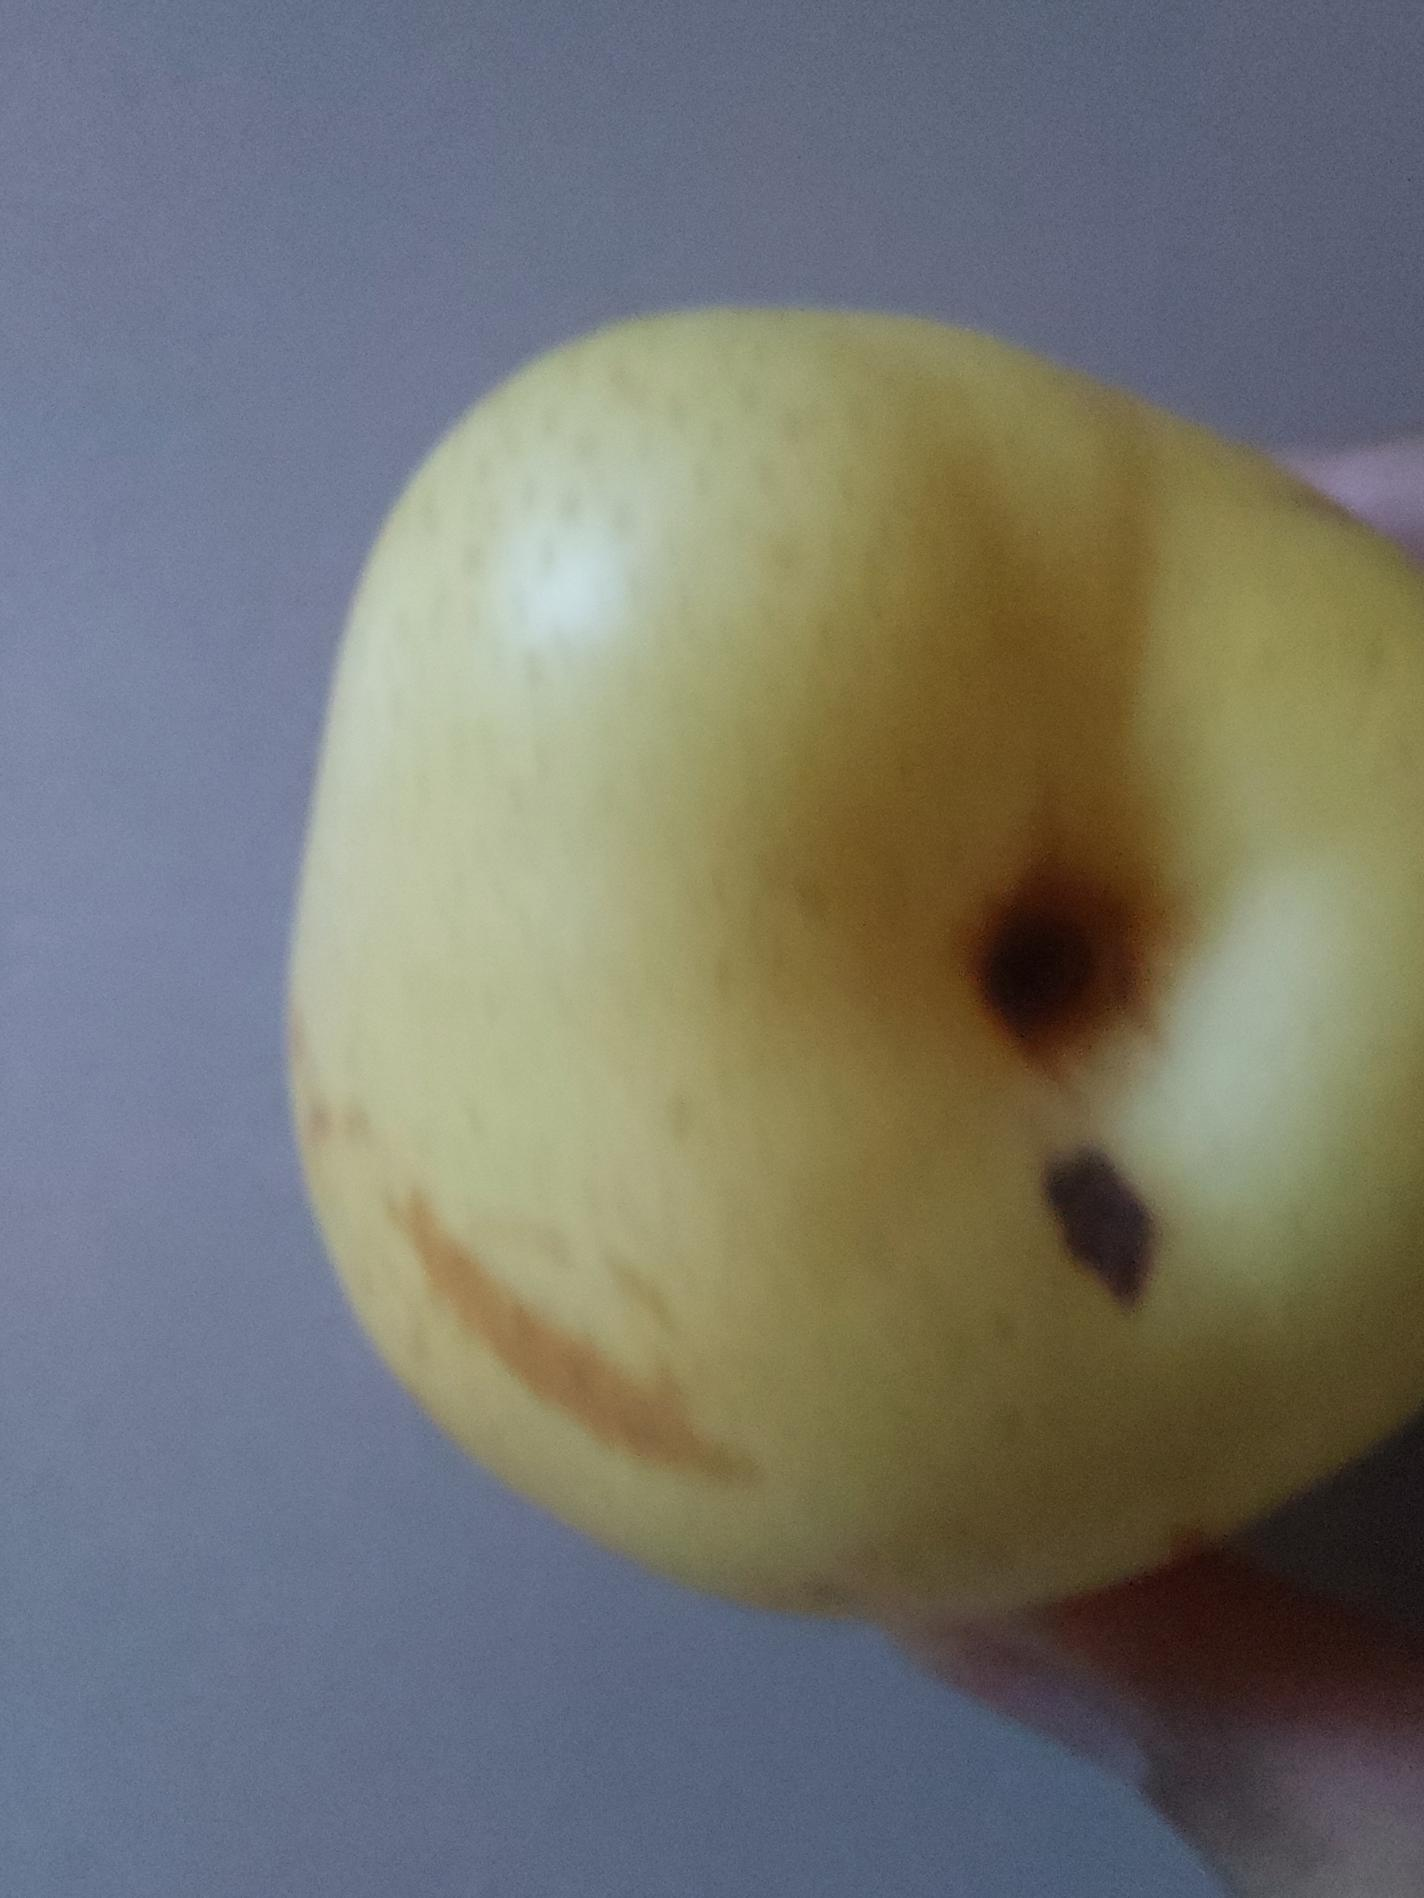Good Pear: (287, 298, 1424, 1644)
